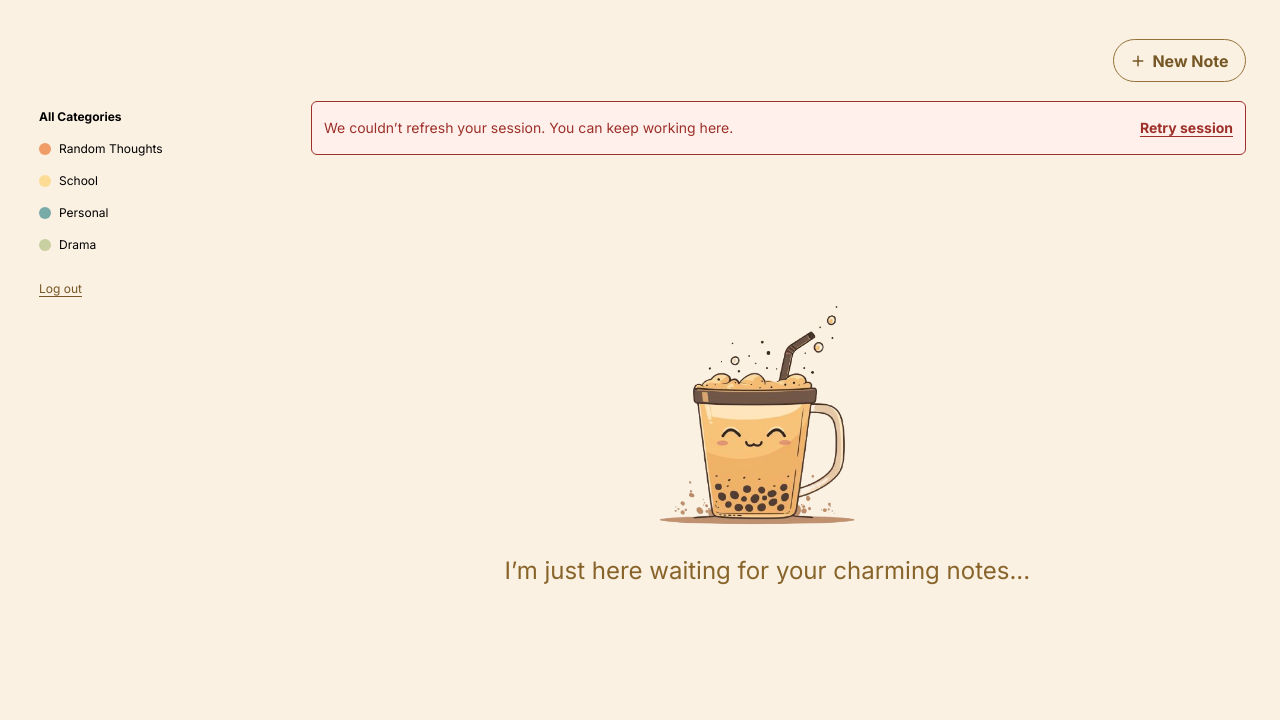
Test: notes screen flows › keeps the notes screen mounted when session revalidation fails
Check: the message shows "We couldn’t refresh your session. You can keep working here.", box [324,119,733,136]
Click the button "Retry session" at (1186, 128), box [1140,110,1233,146]
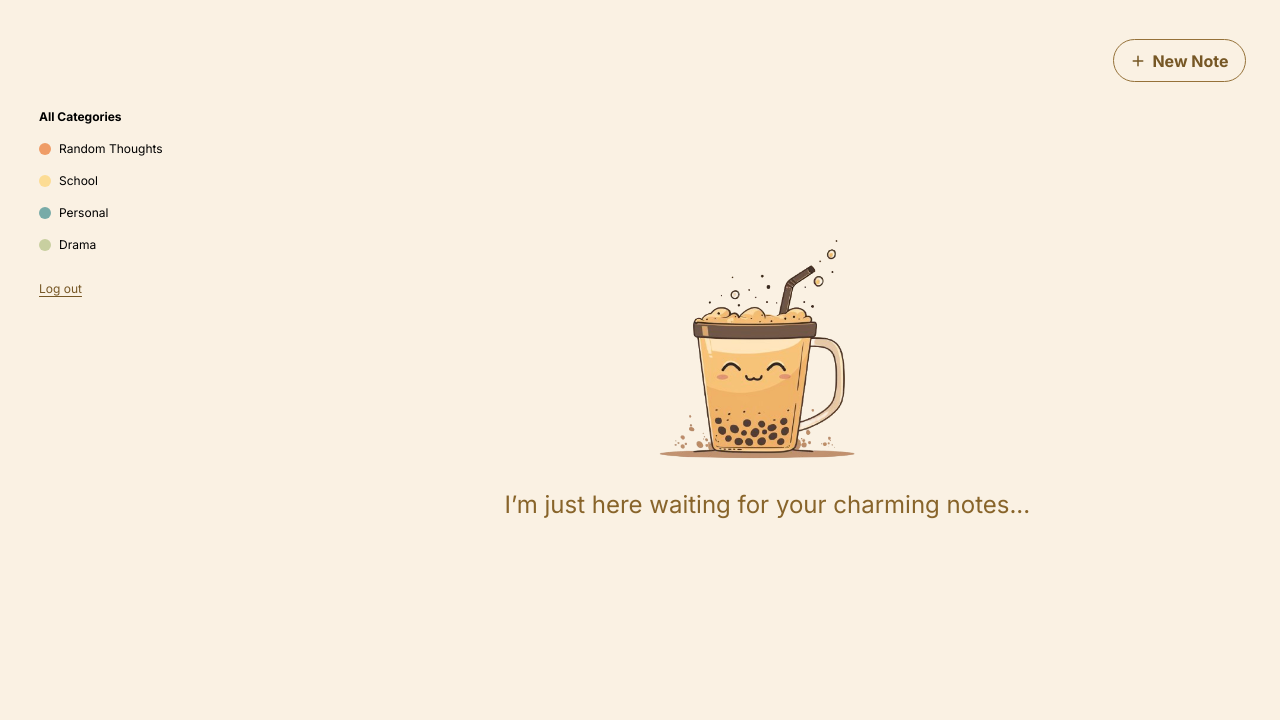
Check: the message "We couldn’t refresh your session. You can keep working here. Retry session" is gone
